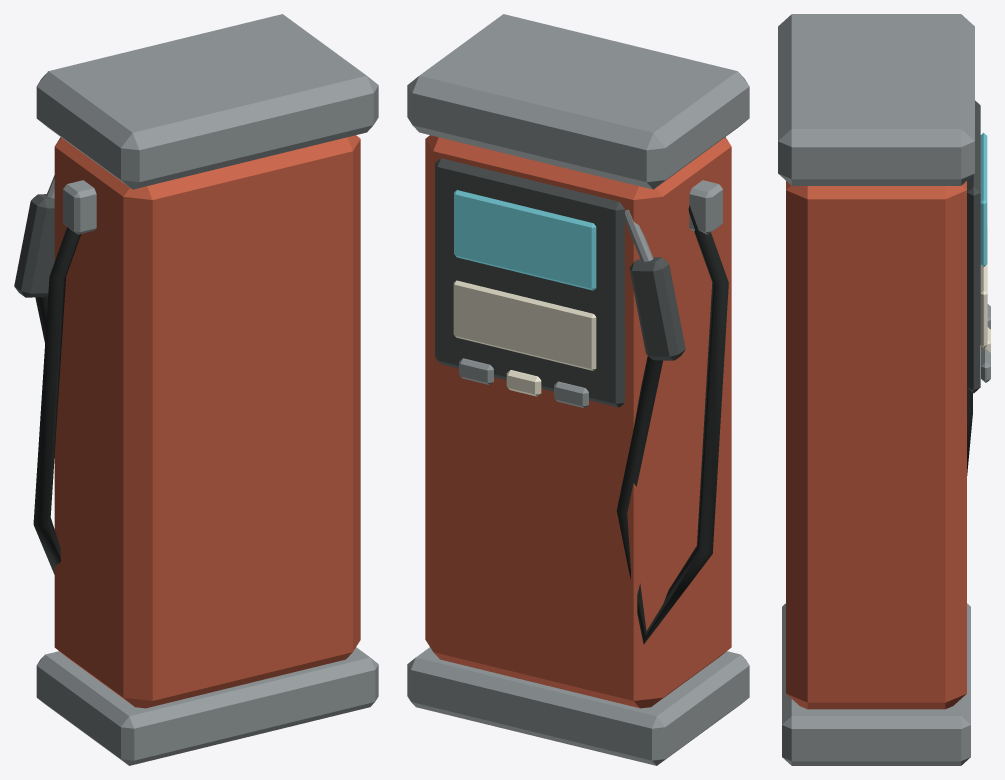
The model's file is gas_pump.glb.
The picture shows the model from 3 angles, left to right: view 1: azimuth 30°, elevation 25°; view 2: azimuth 150°, elevation 25°; view 3: azimuth 270°, elevation 25°; orthographic projection.
Parts seen in each view (by area): view 1: gas_pump; view 2: gas_pump; view 3: gas_pump.
Boxes of the visible parts, bbox=[...] form: gas_pump: bbox=[14, 14, 378, 765]; gas_pump: bbox=[407, 14, 749, 765]; gas_pump: bbox=[778, 14, 990, 765].
Size of the model in its own units: 0.8345 by 1.78 by 0.5405.
